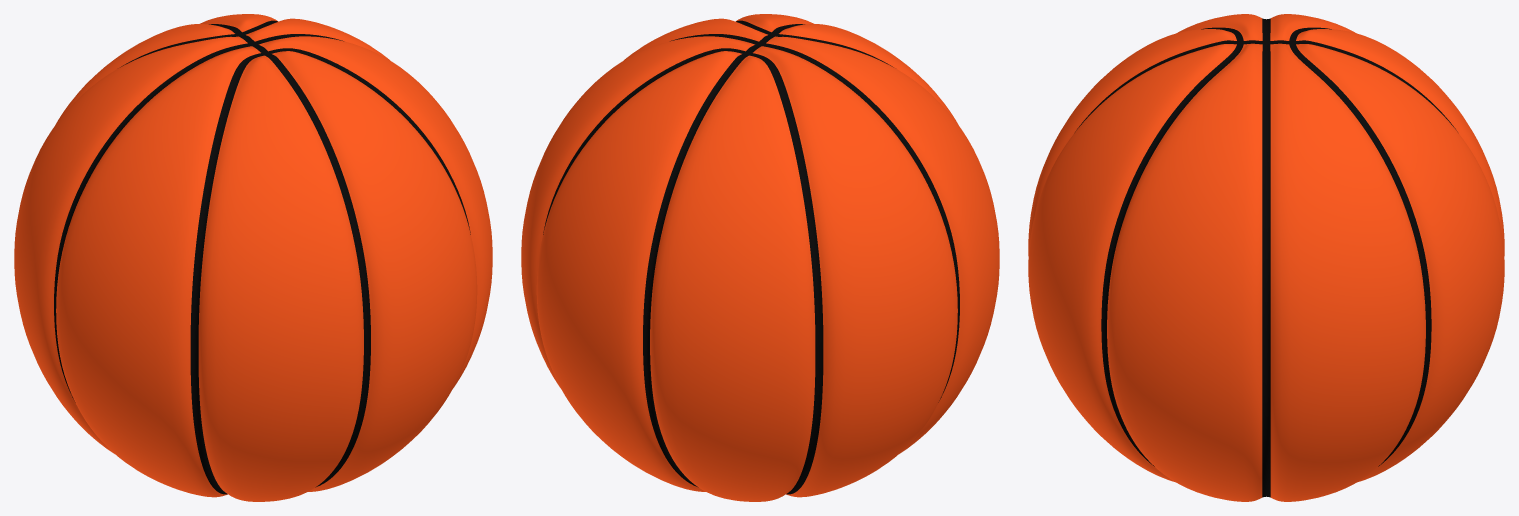
Rendered from basketball.glb.
3 views of the same model, side by side, from view 1: azimuth 30°, elevation 25°; view 2: azimuth 150°, elevation 25°; view 3: azimuth 270°, elevation 25° (orthographic).
Visible parts, largest first — view 1: Sphere; view 2: Sphere; view 3: Sphere.
Boxes of the visible parts, box(x1,y1,x2,y2) form: Sphere: box(14, 14, 492, 501); Sphere: box(521, 14, 999, 501); Sphere: box(1028, 14, 1504, 501).
Size of the model in its own units: 1.92 by 1.96 by 1.92.
